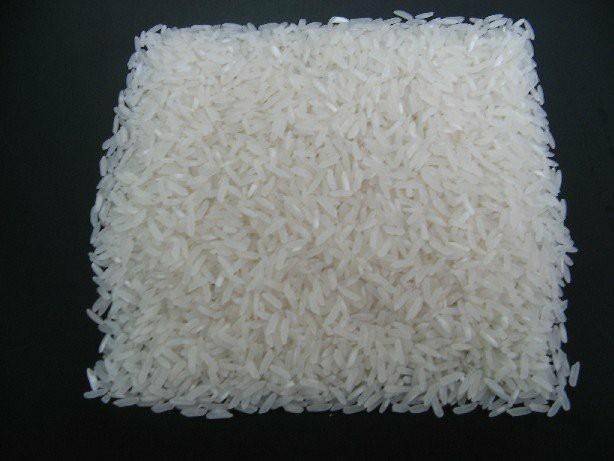WhiteRice: (92, 20, 570, 417)
